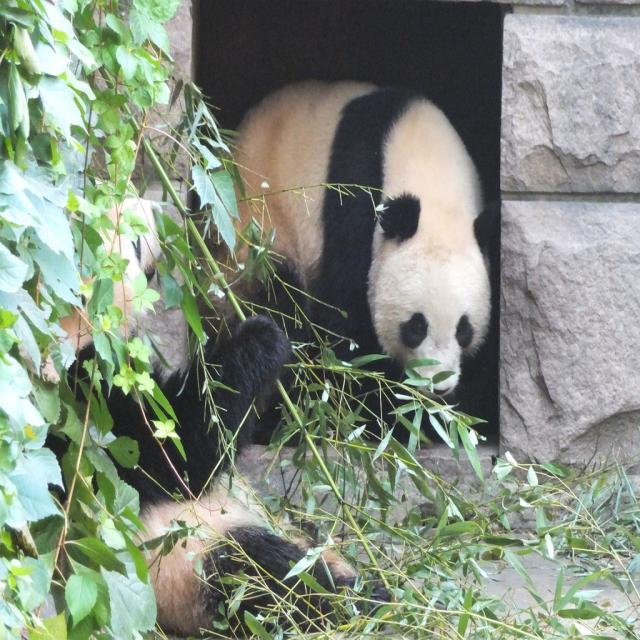panda: (41, 313, 399, 640), (194, 78, 498, 407)
